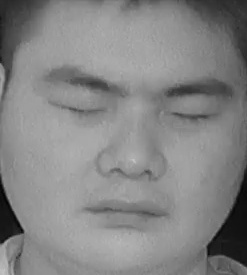blink: (47, 90, 111, 127), (168, 99, 219, 130)
mouth: (77, 187, 170, 236)
